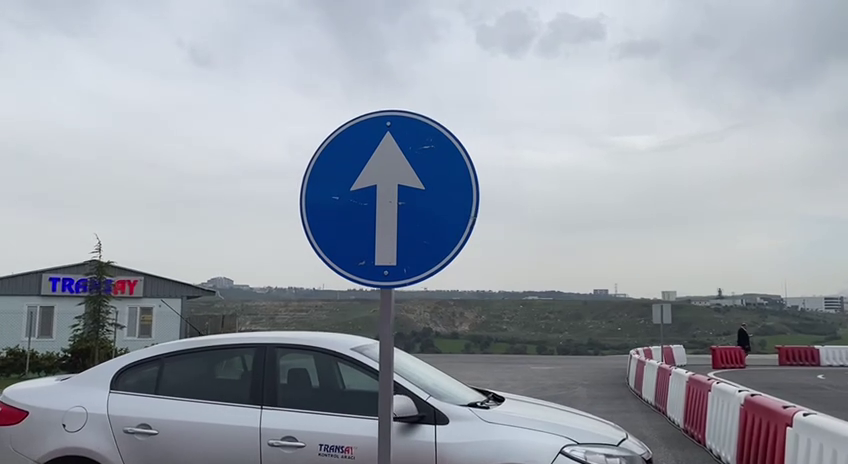forward: (295, 103, 487, 291)
